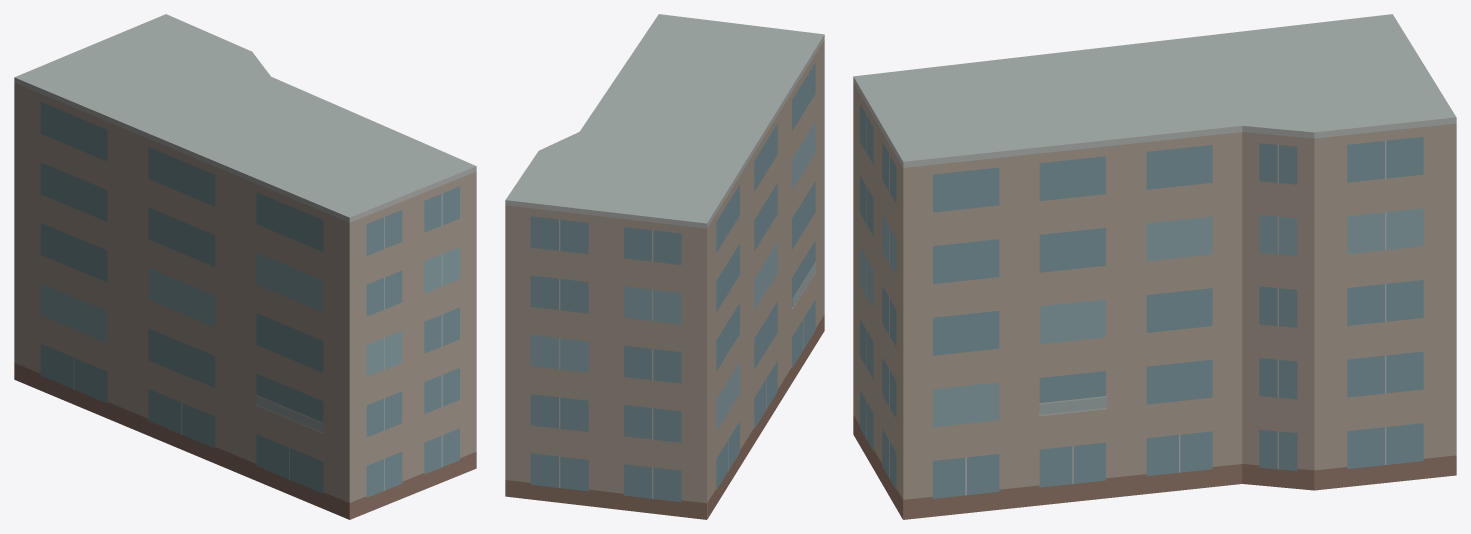
Rendered from survey-upis-32562361.glb.
3 views of the same model, side by side, from view 1: azimuth 30°, elevation 25°; view 2: azimuth 150°, elevation 25°; view 3: azimuth 270°, elevation 25° (orthographic). The views are drawn at different scales.
Parts seen in each view (by area): view 1: survey-upis-32562361.tmp; view 2: survey-upis-32562361.tmp; view 3: survey-upis-32562361.tmp.
Boxes of the visible parts, left/top/right/bottom form: survey-upis-32562361.tmp: left=14, top=14, right=476, bottom=519; survey-upis-32562361.tmp: left=505, top=14, right=824, bottom=519; survey-upis-32562361.tmp: left=853, top=14, right=1456, bottom=519.
Bounding box in the file's own units: 12.5 × 14.1 × 21.54.
